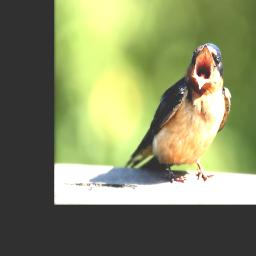Swallow: (124, 42, 233, 184)
